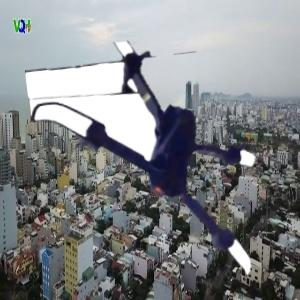drone: (38, 37, 296, 295)
